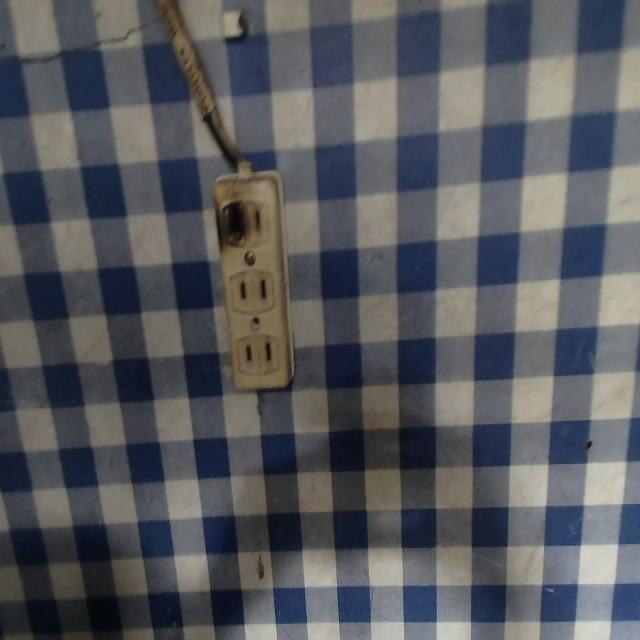-: (216, 189, 247, 251)
